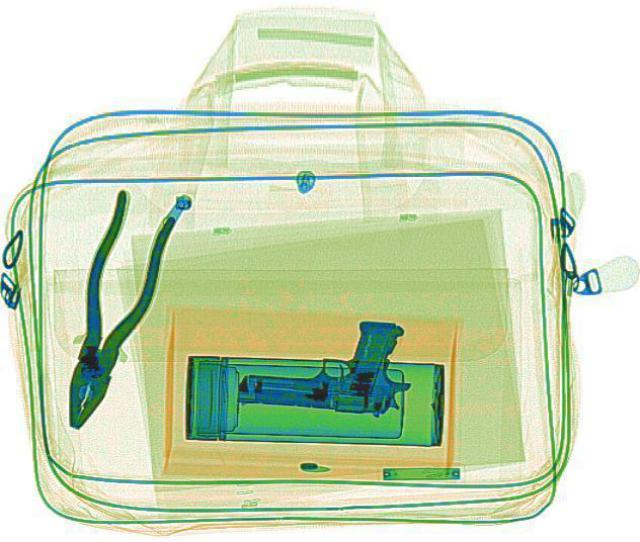Gun: (233, 311, 415, 416)
Pliers: (38, 187, 182, 430)
